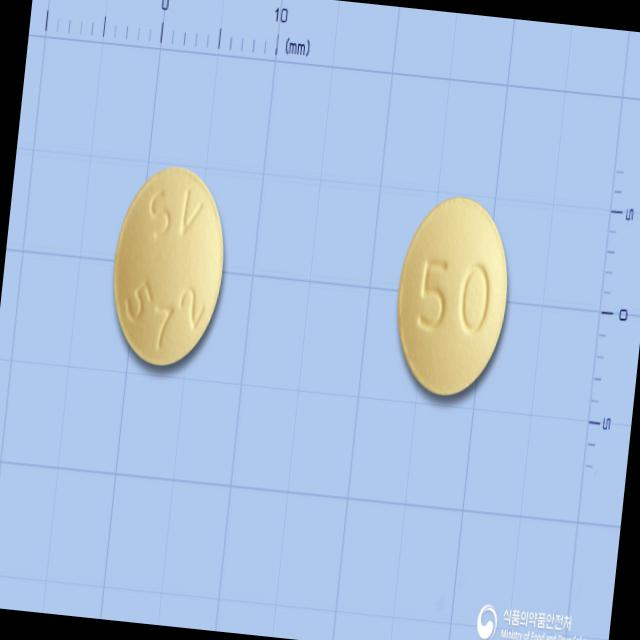Tivicay Tab: (103, 156, 235, 372), (387, 188, 517, 405)
